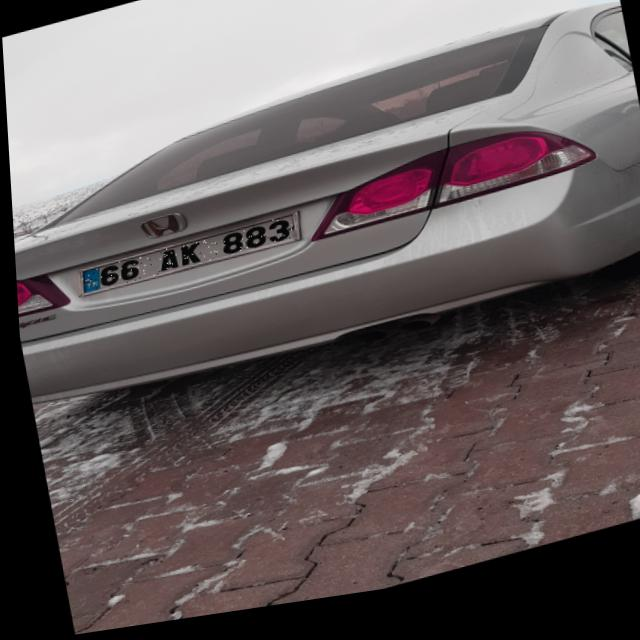license_plate: (74, 222, 294, 297)
